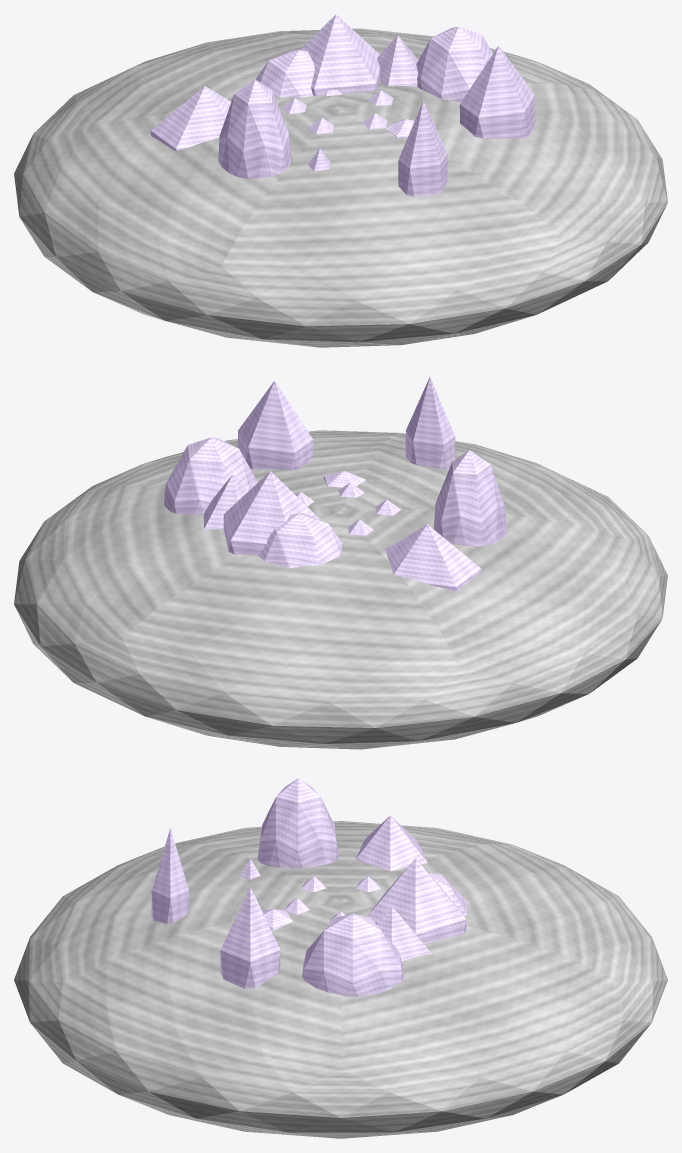
Rendered from sam_node_variant_b.glb.
3 views of the same model, one above another, from view 1: azimuth 30°, elevation 25°; view 2: azimuth 150°, elevation 25°; view 3: azimuth 270°, elevation 25° (orthographic).
Visible parts, largest first — view 1: Resource node bedrock.001, Exposed ore formation.016, Exposed ore formation.020, Exposed ore formation.012, Exposed ore formation.010, Exposed ore formation.018, Exposed ore formation.015, Exposed ore formation.013, Exposed ore formation.011; view 2: Resource node bedrock.001, Exposed ore formation.016, Exposed ore formation.020, Exposed ore formation.010, Exposed ore formation.012, Exposed ore formation.015, Exposed ore formation.013, Exposed ore formation.018, Exposed ore formation.011; view 3: Resource node bedrock.001, Exposed ore formation.010, Exposed ore formation.016, Exposed ore formation.012, Exposed ore formation.020, Exposed ore formation.018, Exposed ore formation.015, Exposed ore formation.011, Exposed ore formation.013.
Boxes of the visible parts, x1=… form: Resource node bedrock.001: x1=14, y1=28, x2=667, y2=347; Exposed ore formation.016: x1=218, y1=79, x2=291, y2=178; Exposed ore formation.020: x1=459, y1=46, x2=535, y2=139; Exposed ore formation.012: x1=300, y1=14, x2=380, y2=95; Exposed ore formation.010: x1=416, y1=26, x2=492, y2=101; Exposed ore formation.018: x1=398, y1=100, x2=447, y2=196; Exposed ore formation.015: x1=150, y1=86, x2=231, y2=150; Exposed ore formation.013: x1=255, y1=49, x2=314, y2=97; Exposed ore formation.011: x1=377, y1=35, x2=418, y2=86; Resource node bedrock.001: x1=14, y1=430, x2=667, y2=749; Exposed ore formation.016: x1=433, y1=450, x2=506, y2=546; Exposed ore formation.020: x1=237, y1=381, x2=313, y2=470; Exposed ore formation.010: x1=163, y1=437, x2=257, y2=514; Exposed ore formation.012: x1=223, y1=471, x2=320, y2=555; Exposed ore formation.015: x1=385, y1=524, x2=481, y2=591; Exposed ore formation.013: x1=258, y1=513, x2=342, y2=567; Exposed ore formation.018: x1=405, y1=377, x2=455, y2=468; Exposed ore formation.011: x1=203, y1=474, x2=247, y2=529; Resource node bedrock.001: x1=14, y1=821, x2=667, y2=1138; Exposed ore formation.010: x1=302, y1=913, x2=403, y2=996; Exposed ore formation.016: x1=257, y1=778, x2=338, y2=868; Exposed ore formation.012: x1=367, y1=858, x2=466, y2=943; Exposed ore formation.020: x1=220, y1=886, x2=280, y2=988; Exposed ore formation.018: x1=151, y1=828, x2=188, y2=923; Exposed ore formation.015: x1=355, y1=815, x2=427, y2=871; Exposed ore formation.011: x1=377, y1=906, x2=431, y2=960; Exposed ore formation.013: x1=429, y1=873, x2=467, y2=916.
Size of what is drawn, in the model's own units: 6.4 by 2.48 by 6.4.
2 materials, 2 textured.
